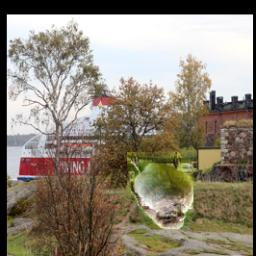Sparrow: (128, 152, 194, 229)
